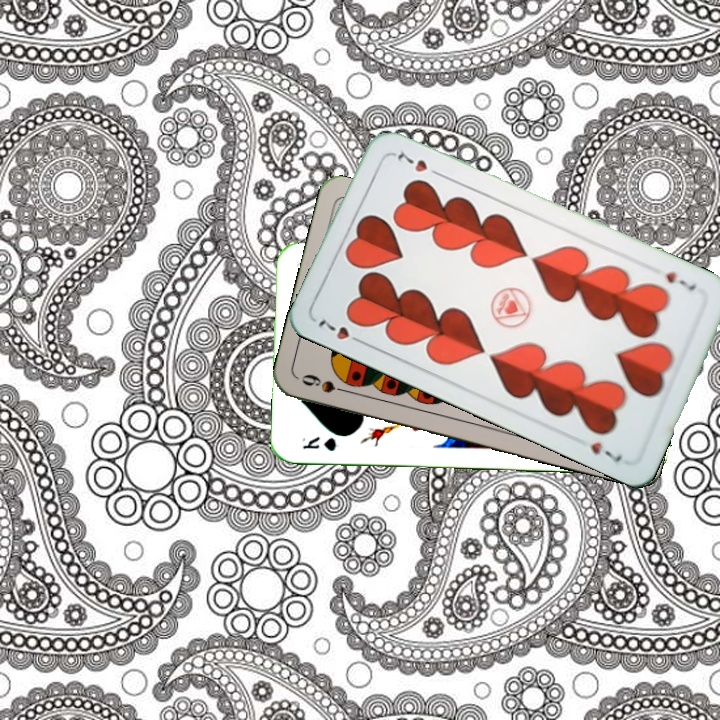GK: (298, 433, 339, 453)
H7: (314, 313, 368, 347), (661, 267, 699, 295)
S9: (297, 370, 355, 397)
